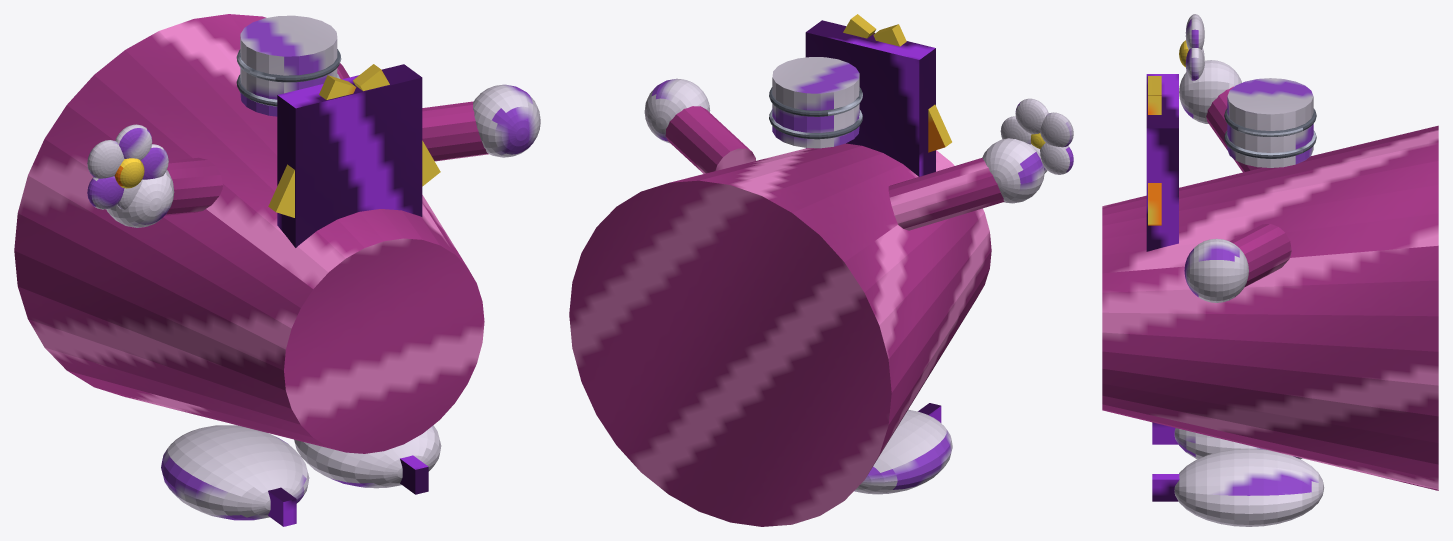
Rendered from moribunda_cuerpo.obj.
3 views of the same model, side by side, from view 1: azimuth 30°, elevation 25°; view 2: azimuth 150°, elevation 25°; view 3: azimuth 270°, elevation 25° (orthographic). The views are drawn at different scales.
Visible parts, largest first — view 1: moribunda_cuerpo; view 2: moribunda_cuerpo; view 3: moribunda_cuerpo.
Boxes of the visible parts, x1=… form: moribunda_cuerpo: x1=14, y1=14, x2=540, y2=526; moribunda_cuerpo: x1=569, y1=14, x2=1073, y2=526; moribunda_cuerpo: x1=1102, y1=14, x2=1438, y2=526.
Bounding box in the file's own units: 1.74 × 1.65 × 1.25.
5 materials, 5 textured.
